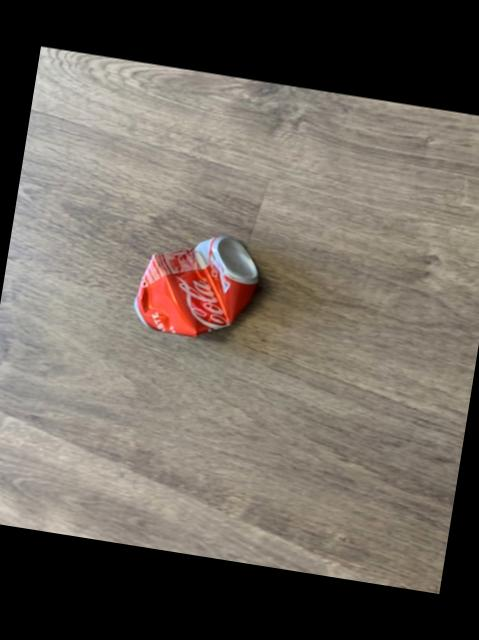metal: (135, 234, 257, 335)
